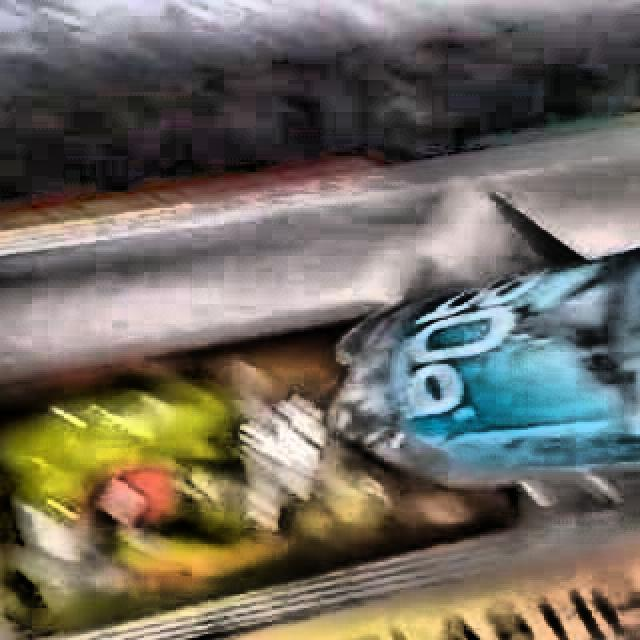plastic: (333, 249, 640, 484)
